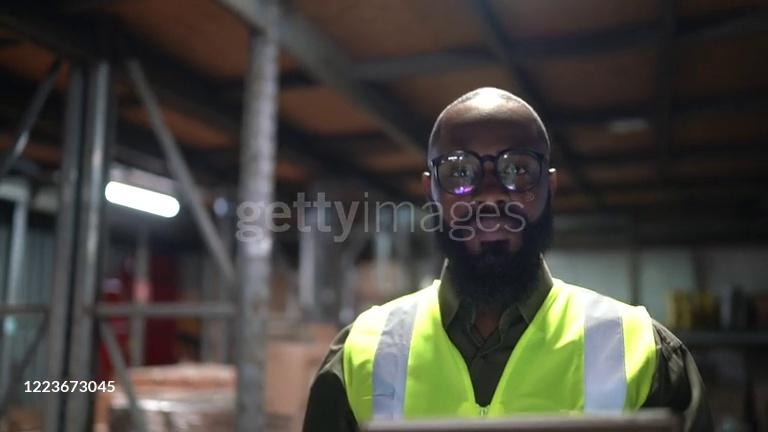person: (303, 89, 715, 431)
